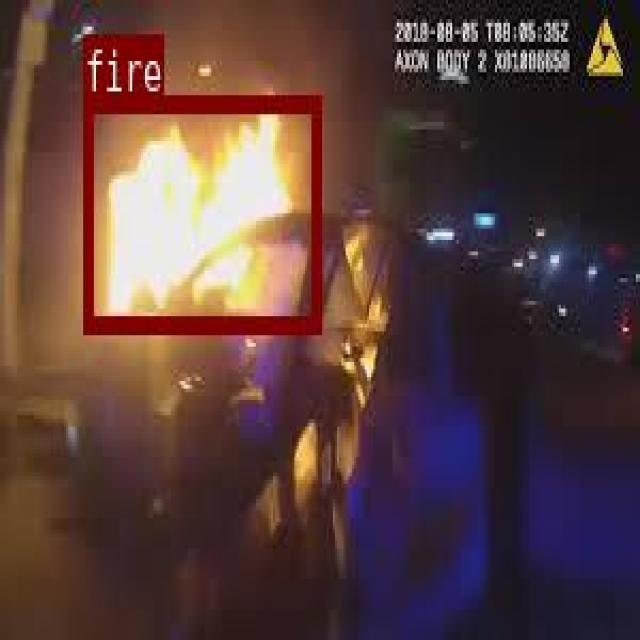fire: (83, 94, 319, 329)
